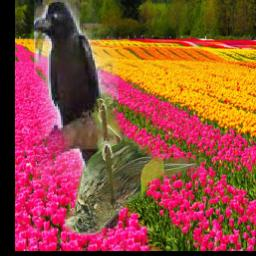Crow: (33, 1, 118, 230)
Sparrow: (64, 94, 200, 236)
